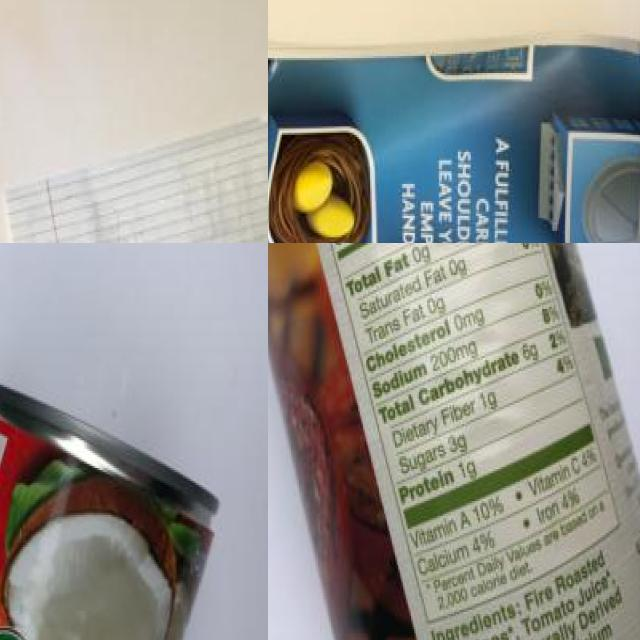paper: (268, 25, 640, 243), (6, 135, 268, 243)
plastic: (268, 243, 640, 640), (0, 357, 222, 640)
